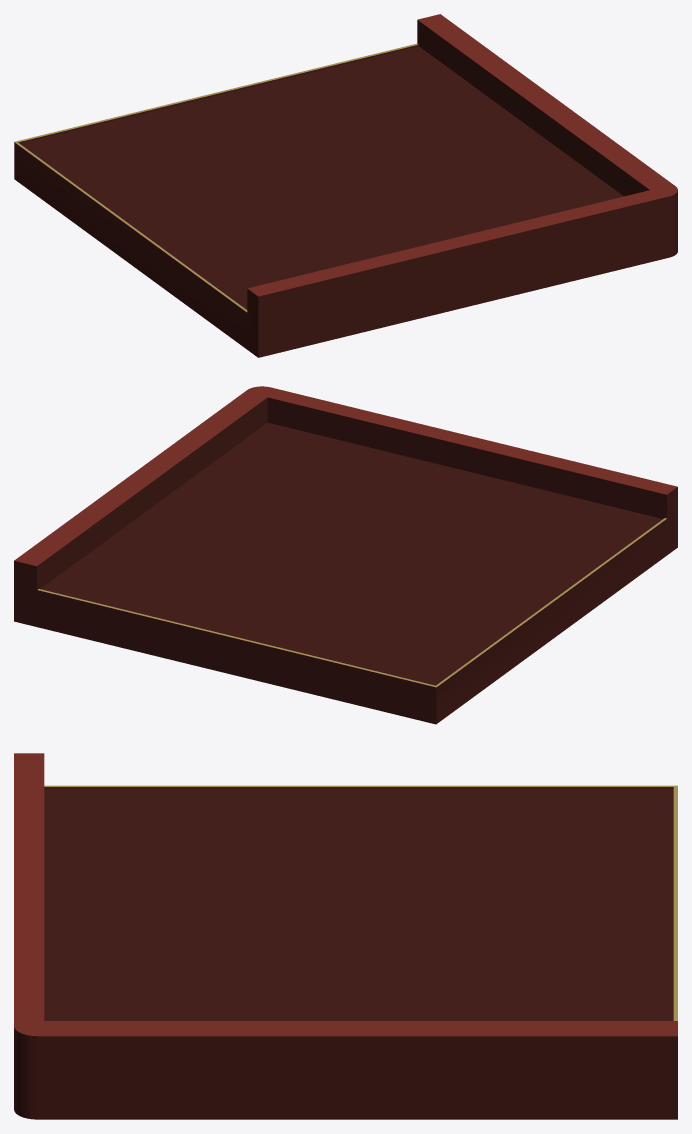
Rendered from Cupcake Tray Sort - Board 1.fbx.
3 renders of one model, top to bottom at view 1: azimuth 30°, elevation 25°; view 2: azimuth 150°, elevation 25°; view 3: azimuth 270°, elevation 25°, orthographic. The views are drawn at different scales.
Visible parts, largest first — view 1: board 1; view 2: board 1; view 3: board 1.
Part boxes in pixels (<box>): board 1: <box>14,14,677,357</box>; board 1: <box>14,386,677,724</box>; board 1: <box>14,753,677,1119</box>.
Size of the model in its own units: 0.1043 by 0.1034 by 0.0143.
